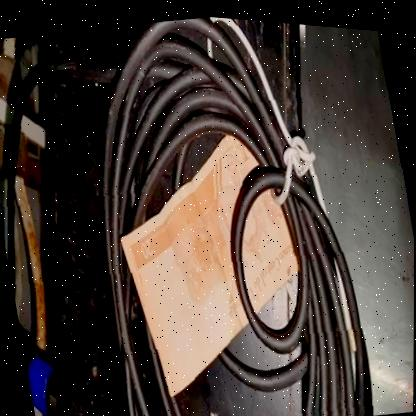twenty-back-vef: (102, 114, 318, 406)
